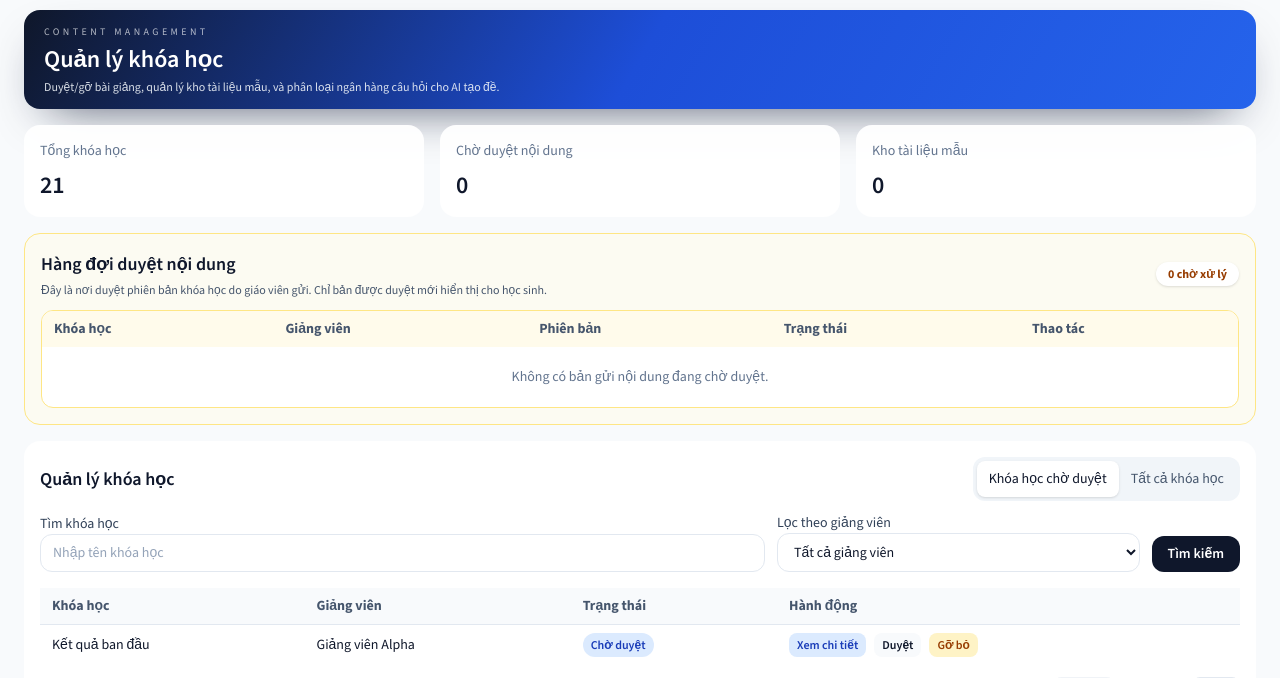
AdminContentManagementPage course filters › keeps the newest instructor result when an older request finishes later
Expected: the text "Kết quả ban đầu" is shown, [40,624,304,665]
Select "Giảng viên Alpha" in the dropdown labelled "Lọc theo giảng viên": x=958, y=552 [777,533,1140,572]
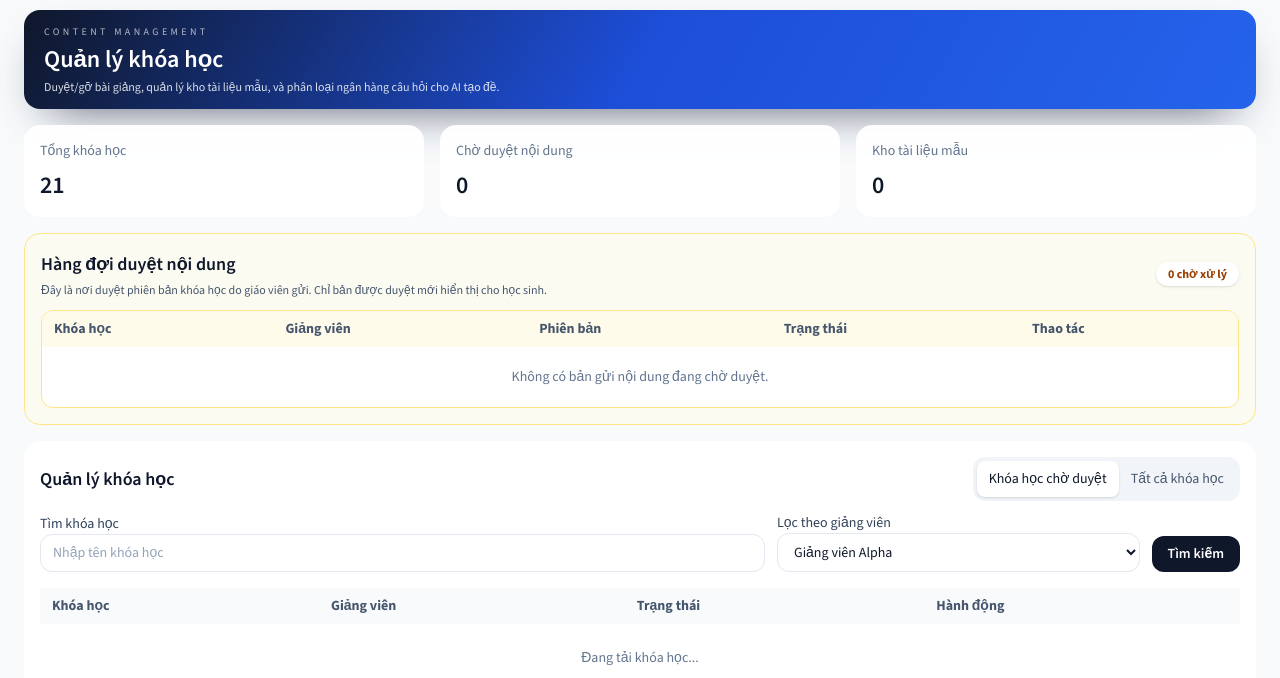
Select "Giảng viên Beta" in the dropdown labelled "Lọc theo giảng viên": x=958, y=552 [777,533,1140,572]
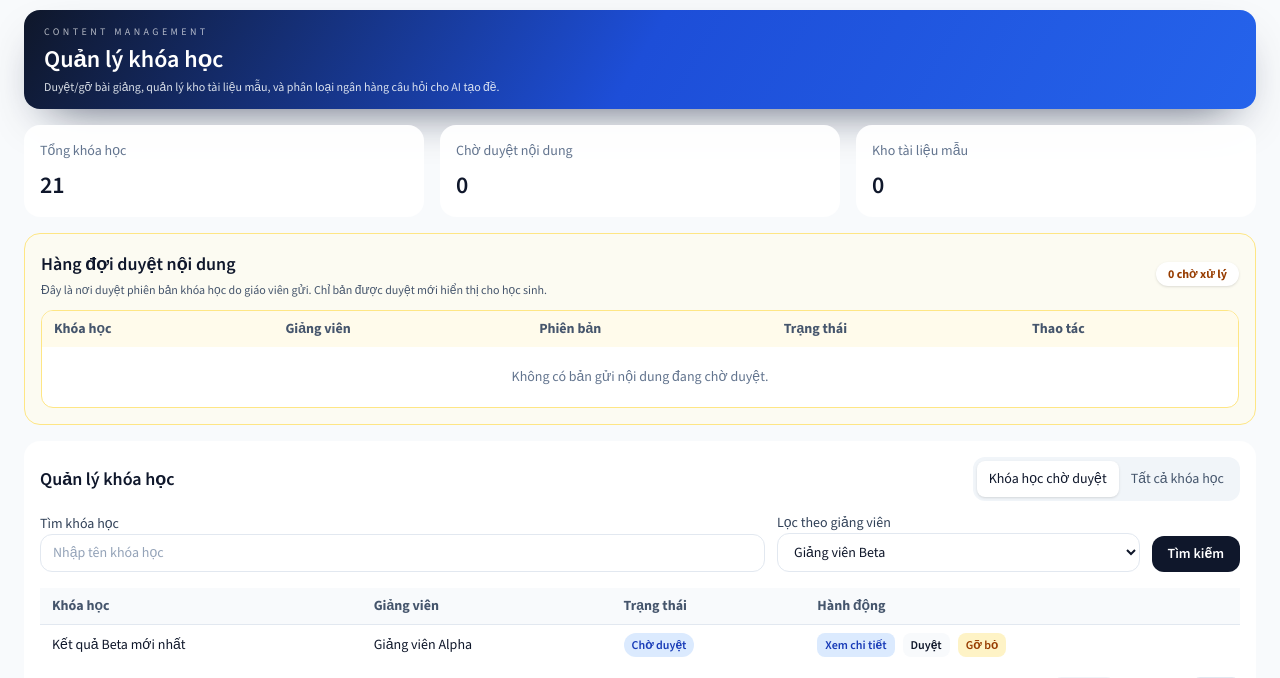
Expected: the text "Kết quả Beta mới nhất" is shown, [40,624,362,665]
